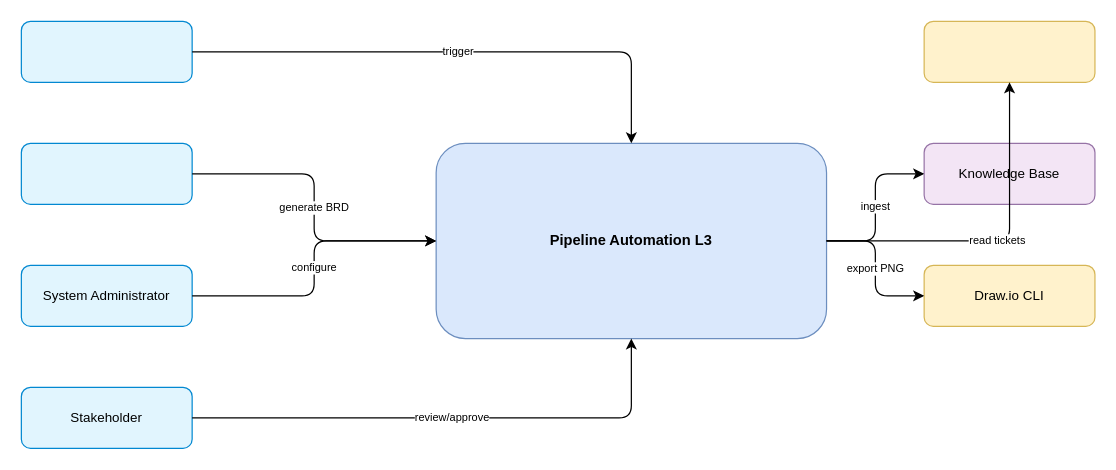
This 1116x470 diagram has some shape labels left out. Each missing label, with the centre of its shape:
Business Analyst: point 106,173
Jira: point 1009,51
Product Manager: point 106,51
